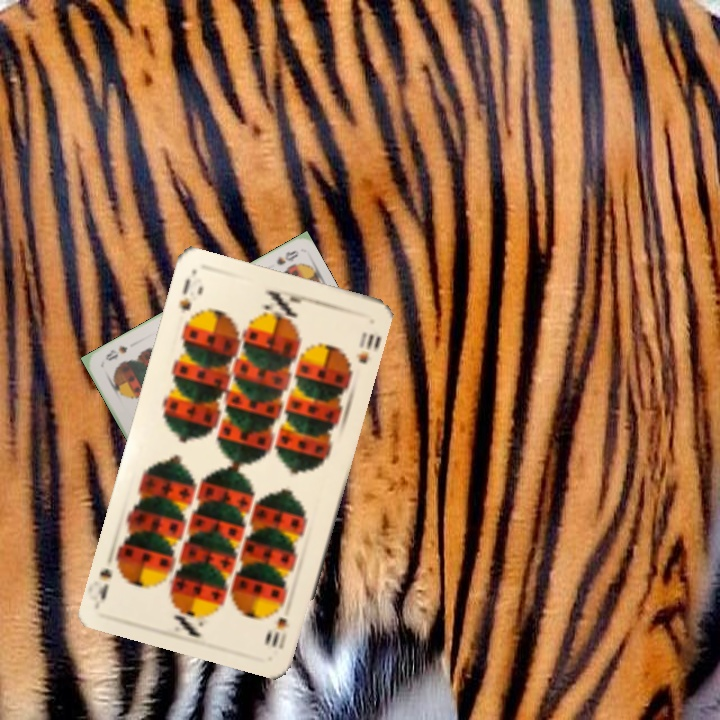S10: (268, 613, 292, 652), (175, 273, 194, 314)
S8: (272, 246, 301, 268)
